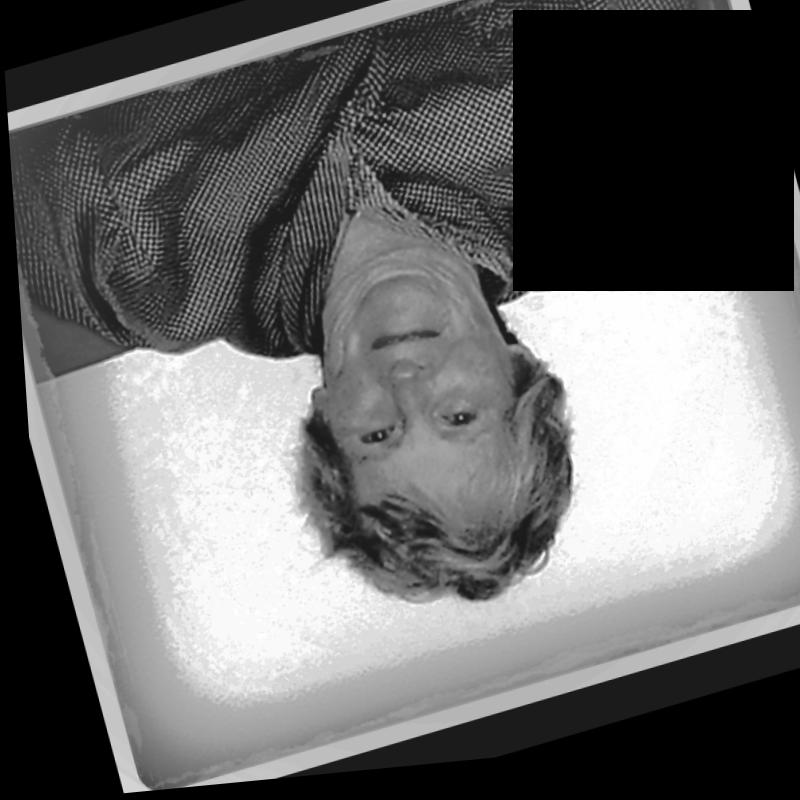pillow: (0, 0, 800, 499)
